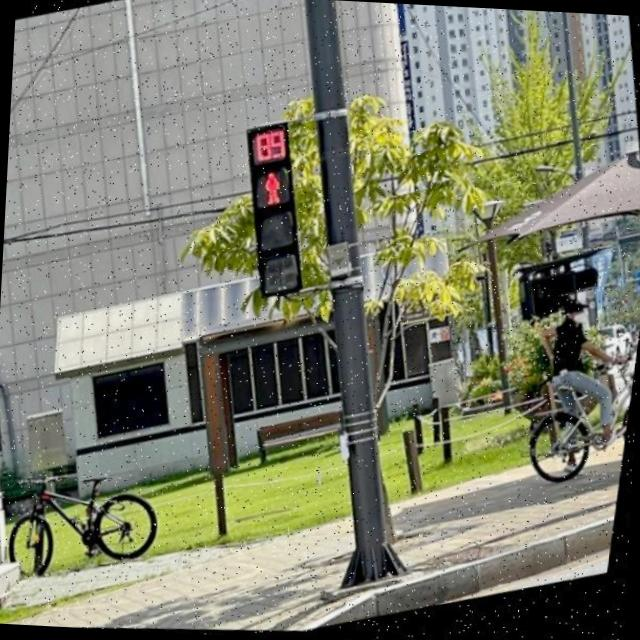red_light: (243, 123, 309, 215)
